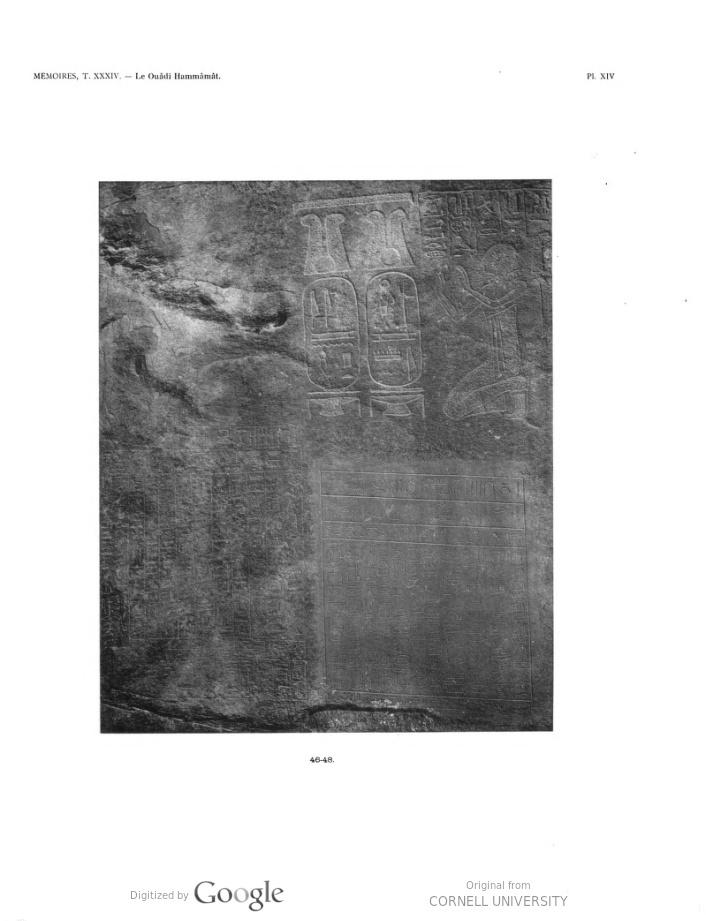circle: (348, 268, 433, 395), (292, 270, 366, 392)
